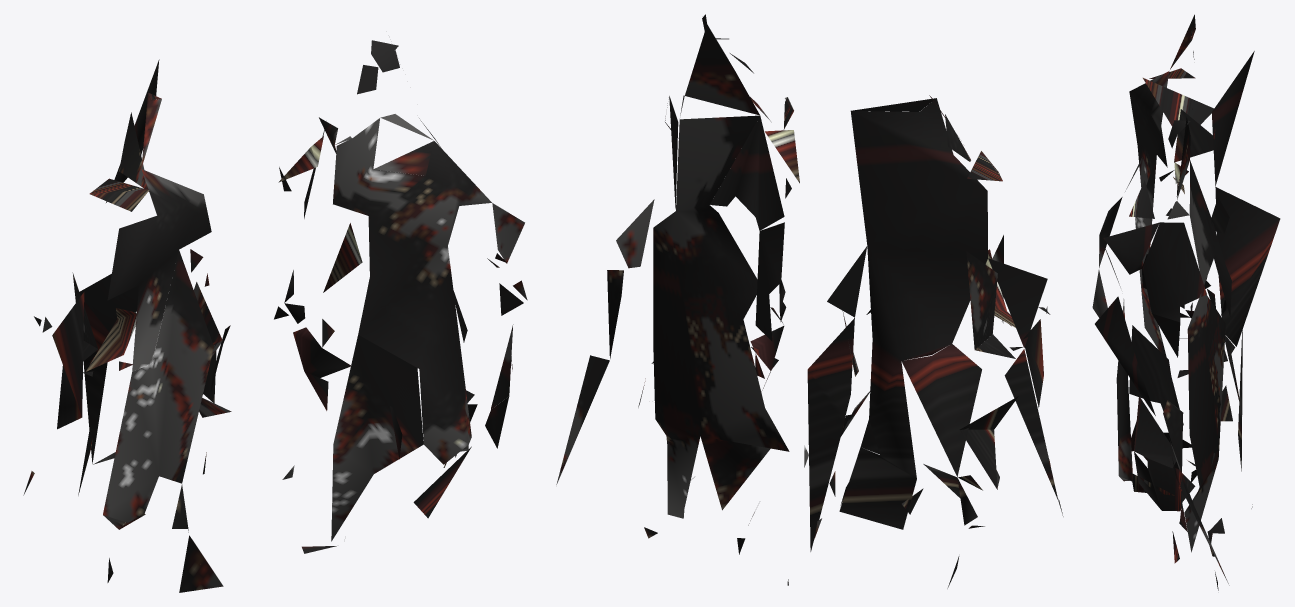
3 renders of one model, left to right at view 1: azimuth 30°, elevation 25°; view 2: azimuth 150°, elevation 25°; view 3: azimuth 270°, elevation 25°, orthographic. The views are drawn at different scales.
Parts seen in each view (by area): view 1: body.002; view 2: body.002; view 3: body.002.
Boxes of the visible parts, <box> form: body.002: <box>23,40,527,592</box>; body.002: <box>556,14,1063,588</box>; body.002: <box>1092,14,1280,590</box>.
Size of the model in its own units: 1.9 by 1.95 by 0.7209.
1 material, 1 textured.
